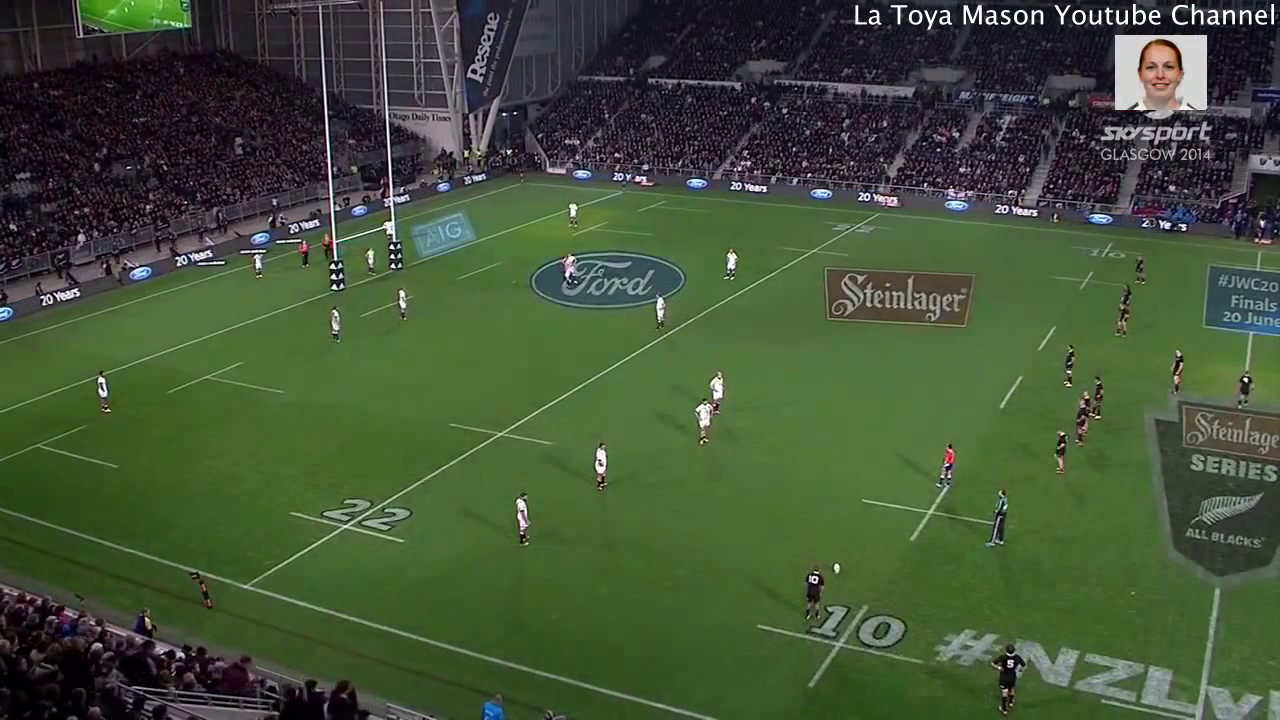10_metre: (752, 591, 929, 702), (858, 481, 1001, 556), (1068, 237, 1132, 266), (1050, 271, 1121, 294)
ball: (826, 559, 843, 580)
player: (989, 646, 1026, 720), (506, 490, 540, 554), (687, 396, 717, 445), (989, 484, 1010, 548), (801, 564, 824, 622), (702, 370, 729, 416), (1069, 395, 1092, 448), (1163, 350, 1188, 396), (589, 442, 612, 491), (935, 441, 958, 488), (94, 372, 116, 420), (323, 302, 348, 344), (1058, 343, 1078, 393), (392, 284, 414, 326), (721, 243, 741, 283), (650, 290, 669, 332), (1235, 370, 1253, 412), (1130, 250, 1149, 288), (1053, 431, 1069, 476), (560, 199, 581, 233), (560, 251, 580, 286), (1091, 373, 1105, 422), (297, 236, 313, 274), (1116, 300, 1131, 336), (251, 248, 266, 279), (362, 246, 375, 276), (321, 232, 333, 260), (1077, 390, 1091, 411), (1117, 282, 1130, 304)
post: (307, 1, 408, 295)
